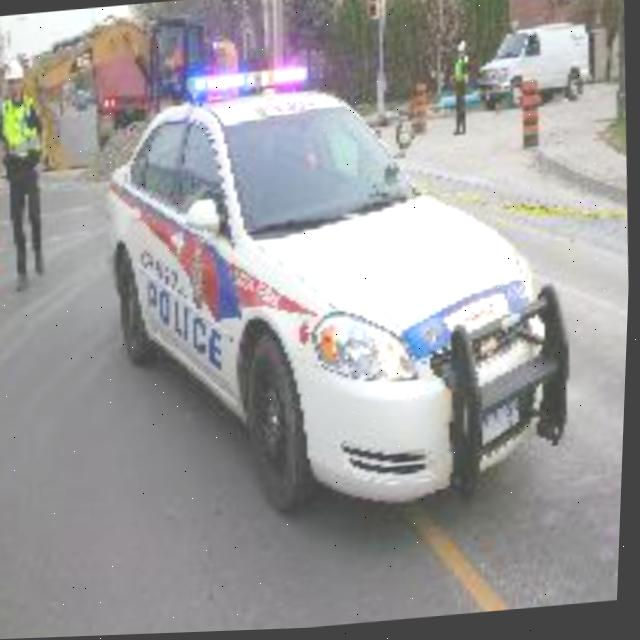emergency: (85, 18, 586, 551)
